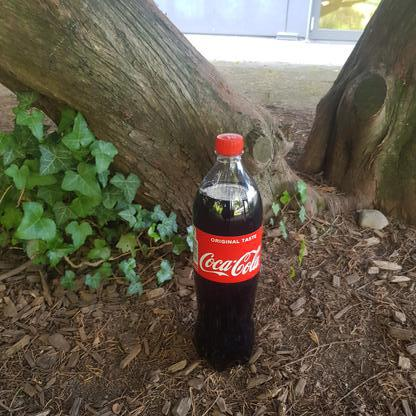coca-cola: (191, 132, 264, 373)
